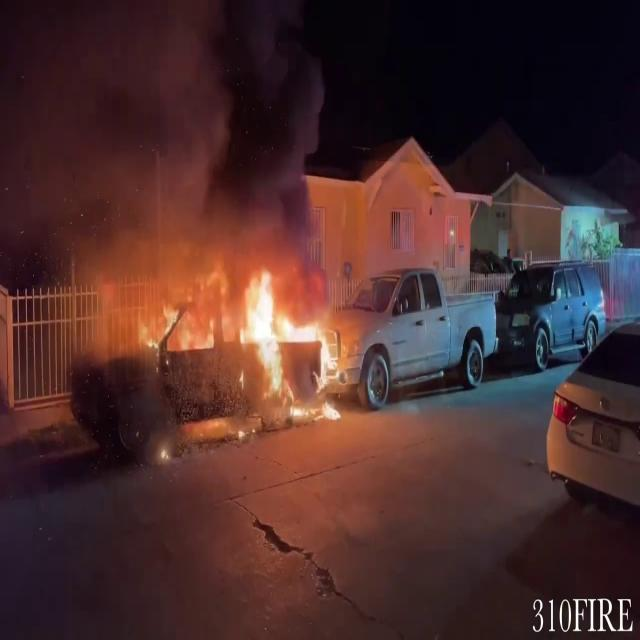Fire: (226, 263, 345, 418)
Smoke: (1, 0, 328, 272)
